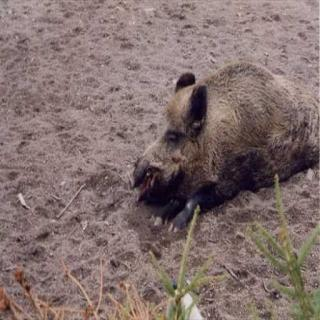Pig: (132, 55, 314, 214)
